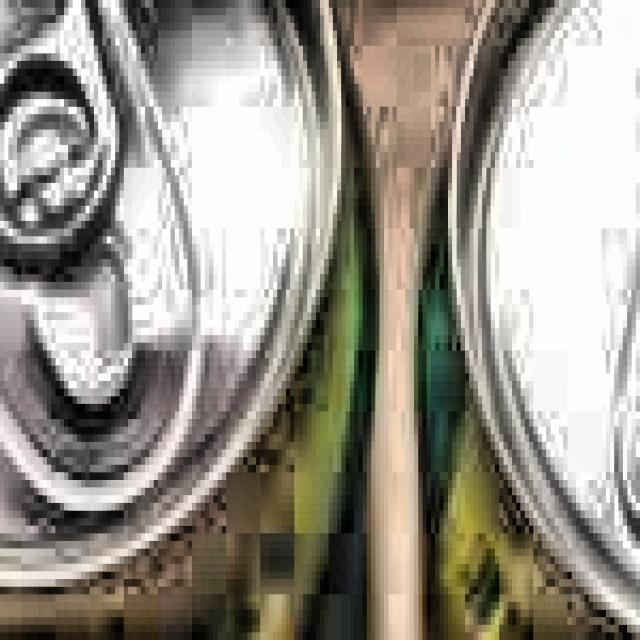metal: (0, 0, 397, 640), (405, 0, 640, 640)
